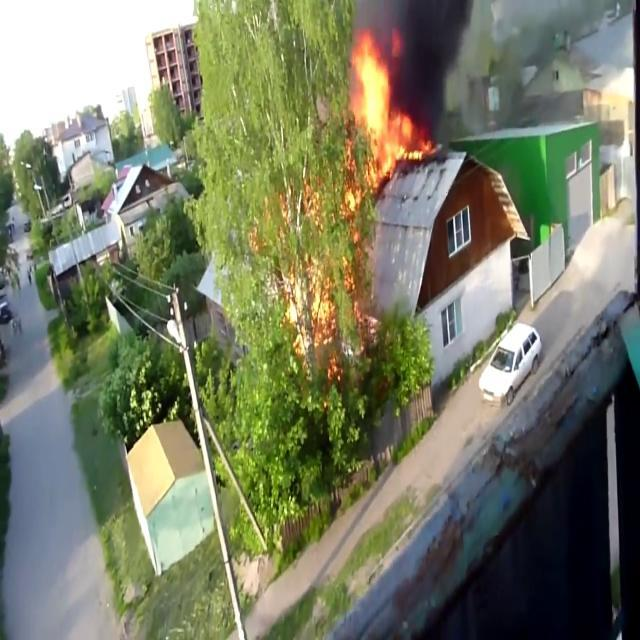Fire: (346, 27, 419, 190)
